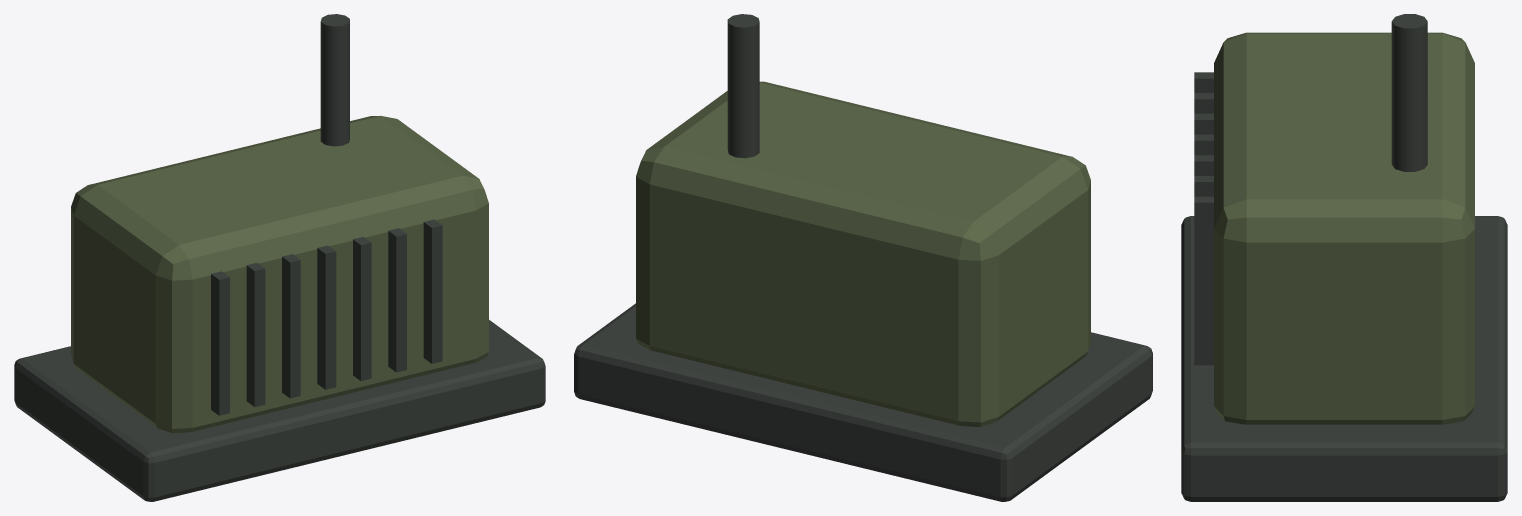
Rendered from prop-generator.glb.
The picture shows the model from 3 angles, left to right: view 1: azimuth 30°, elevation 25°; view 2: azimuth 150°, elevation 25°; view 3: azimuth 270°, elevation 25°; orthographic projection. The views are drawn at different scales.
Parts seen in each view (by area): view 1: Armor, Steel; view 2: Armor, Steel; view 3: Armor, Steel.
Part boxes in pixels (left/top/right/bottom): Armor: left=71, top=115, right=488, bottom=433; Steel: left=14, top=14, right=545, bottom=501; Armor: left=636, top=81, right=1090, bottom=427; Steel: left=574, top=14, right=1152, bottom=501; Armor: left=1214, top=32, right=1474, bottom=424; Steel: left=1181, top=14, right=1507, bottom=501.
Size of the model in its own units: 1.7 by 1.41 by 1.
